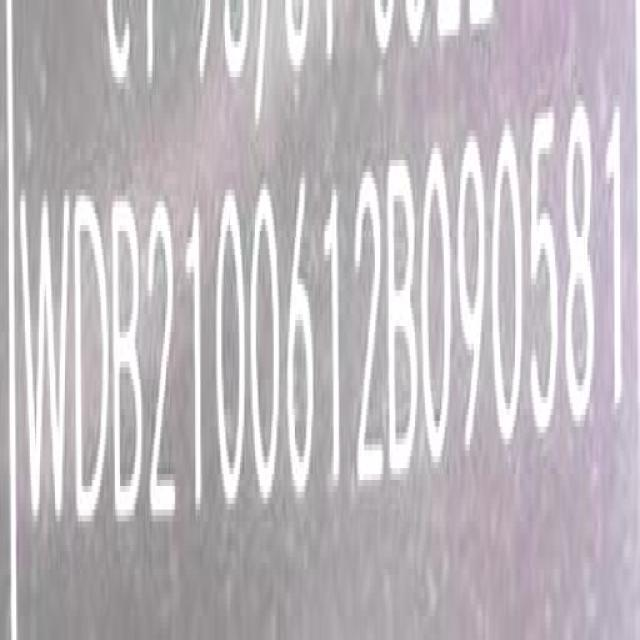0: (214, 189, 247, 522), (492, 118, 524, 457), (421, 147, 453, 478), (252, 186, 282, 514)
1: (605, 86, 627, 432), (188, 196, 210, 534), (326, 174, 344, 508)
2: (147, 193, 180, 537), (354, 167, 386, 499)
5: (526, 104, 560, 444)
6: (287, 178, 318, 509)
8: (564, 96, 596, 434)
9: (454, 131, 486, 472)
B: (113, 193, 146, 537), (389, 156, 422, 490)
D: (76, 189, 112, 534)
W: (20, 184, 70, 538)
